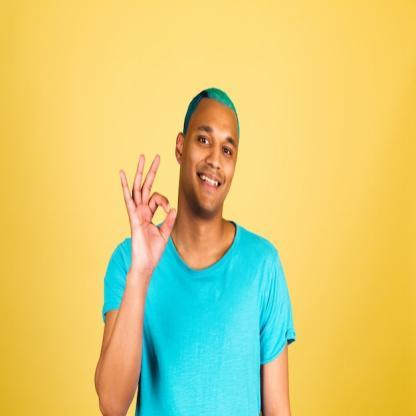ok: (116, 148, 180, 274)
